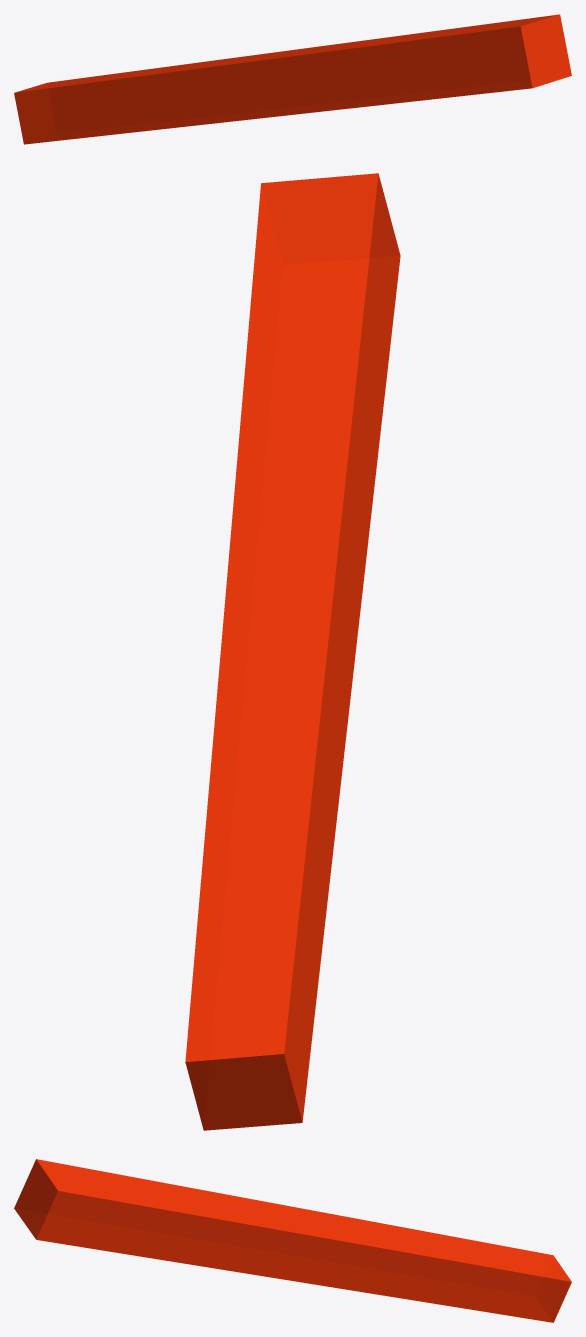
The model's file is Event_420604493_EBrechit_16.fbx.
The picture shows the model from 3 angles, top to bottom: view 1: azimuth 30°, elevation 25°; view 2: azimuth 150°, elevation 25°; view 3: azimuth 270°, elevation 25°; orthographic projection. The views are drawn at different scales.
Visible parts, largest first — view 1: Model; view 2: Model; view 3: Model.
Boxes of the visible parts, x1,y1,x2,y2 form: Model: (14,14,571,144); Model: (185,173,400,1130); Model: (14,1159,571,1322).
Size of the model in its own units: 0.3396 by 0.3099 by 0.6331.
